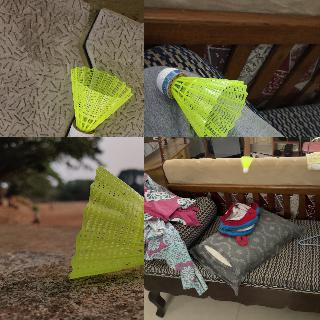shuttlecock: (68, 163, 143, 280), (156, 67, 248, 136), (69, 66, 133, 136), (240, 156, 252, 172)
